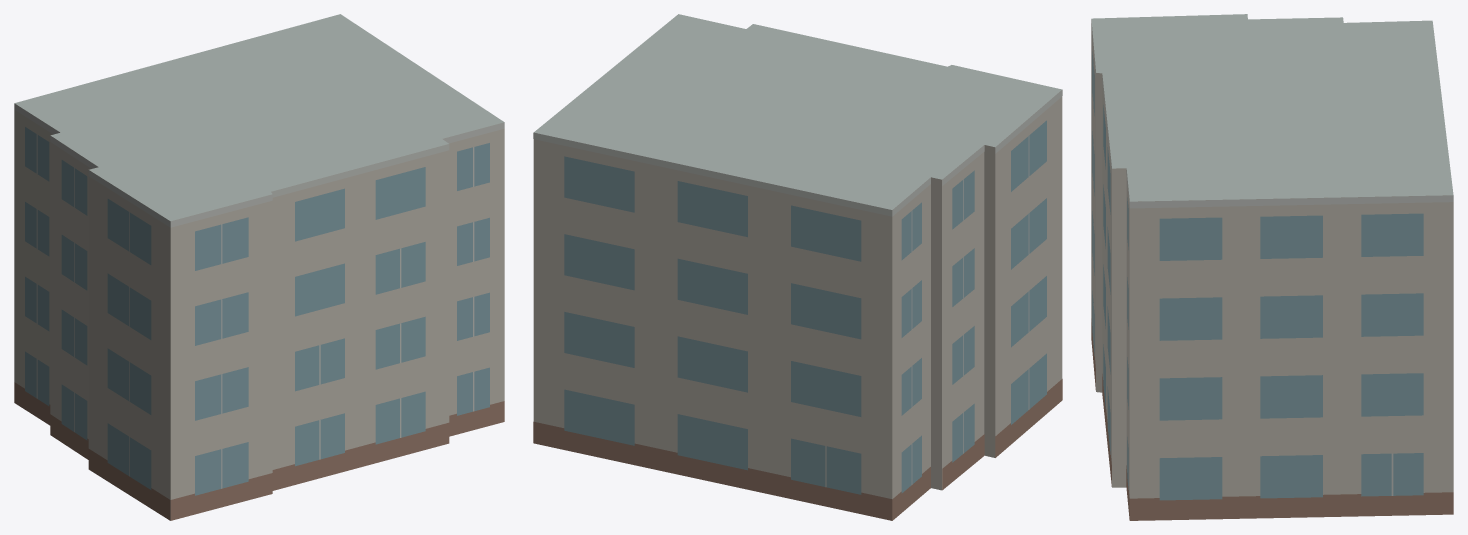
Rendered from survey-upis-32817184.glb.
3 renders of one model, left to right at view 1: azimuth 30°, elevation 25°; view 2: azimuth 150°, elevation 25°; view 3: azimuth 270°, elevation 25°, orthographic. The views are drawn at different scales.
Visible parts, largest first — view 1: survey-upis-32817184.tmp; view 2: survey-upis-32817184.tmp; view 3: survey-upis-32817184.tmp.
Part boxes in pixels (bbox=[...]): survey-upis-32817184.tmp: bbox=[14, 14, 504, 520]; survey-upis-32817184.tmp: bbox=[533, 14, 1062, 520]; survey-upis-32817184.tmp: bbox=[1091, 14, 1453, 520].
Bounding box in the file's own units: 14.38 × 11.4 × 11.73.
